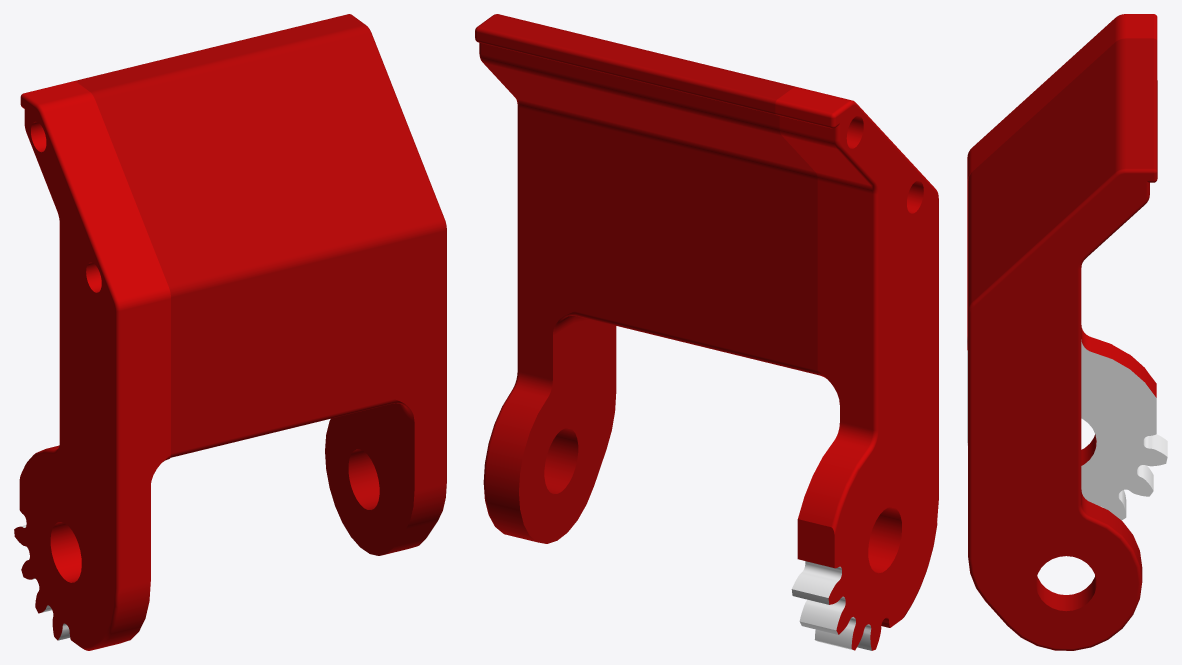
Rendered from Sciurus17_r8_2.gltf.
The picture shows the model from 3 angles, left to right: view 1: azimuth 30°, elevation 25°; view 2: azimuth 150°, elevation 25°; view 3: azimuth 270°, elevation 25°; orthographic projection. The views are drawn at different scales.
Visible parts, largest first — view 1: CRANE-X7_HandD2 20180505; view 2: CRANE-X7_HandD2 20180505; view 3: CRANE-X7_HandD2 20180505.
Boxes of the visible parts, x1,y1,x2,y2 form: CRANE-X7_HandD2 20180505: (14,14,446,650); CRANE-X7_HandD2 20180505: (475,14,938,650); CRANE-X7_HandD2 20180505: (967,14,1167,650).
Size of the model in its own units: 0.049 by 0.0733 by 0.0263.
